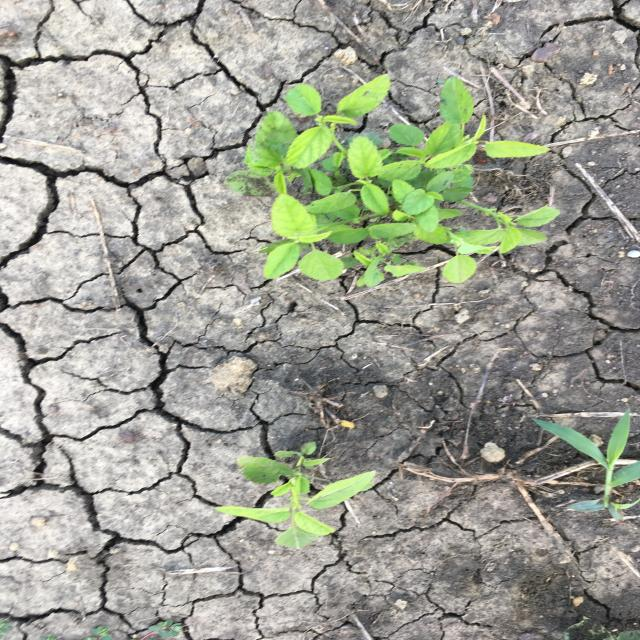PricklySida: (226, 70, 563, 289), (214, 441, 380, 555)
